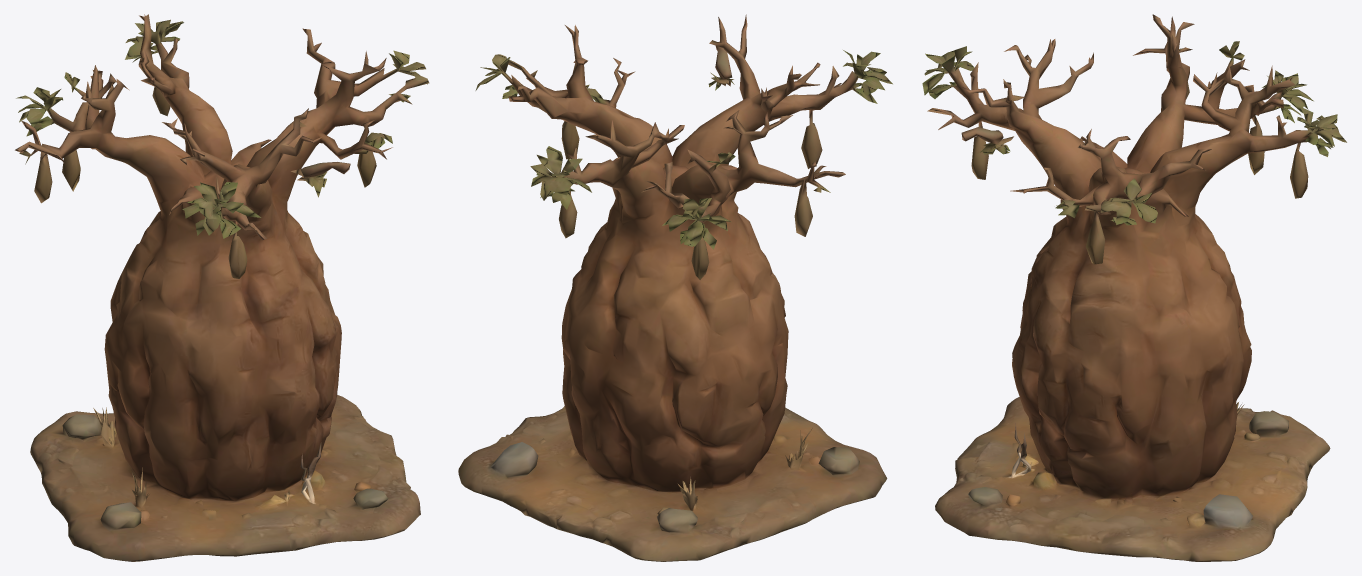
Rendered from journey_baobab.glb.
The picture shows the model from 3 angles, left to right: view 1: azimuth 30°, elevation 25°; view 2: azimuth 150°, elevation 25°; view 3: azimuth 270°, elevation 25°; orthographic projection. The views are drawn at different scales.
Visible parts, largest first — view 1: tripo_node_25903453-721e-41b3-bbf1-f2bc8127ca9f; view 2: tripo_node_25903453-721e-41b3-bbf1-f2bc8127ca9f; view 3: tripo_node_25903453-721e-41b3-bbf1-f2bc8127ca9f.
Boxes of the visible parts, bbox=[...] form: tripo_node_25903453-721e-41b3-bbf1-f2bc8127ca9f: bbox=[15, 14, 429, 561]; tripo_node_25903453-721e-41b3-bbf1-f2bc8127ca9f: bbox=[458, 14, 892, 561]; tripo_node_25903453-721e-41b3-bbf1-f2bc8127ca9f: bbox=[922, 14, 1346, 561].
Bounding box in the file's own units: 0.9747 × 1 × 0.9343.
1 material, 1 textured.
